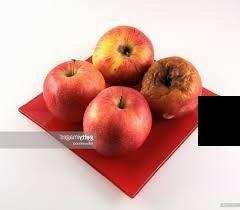red apple: (80, 83, 152, 157), (39, 56, 106, 125), (91, 25, 153, 83)
rotten apple: (142, 55, 202, 121)
